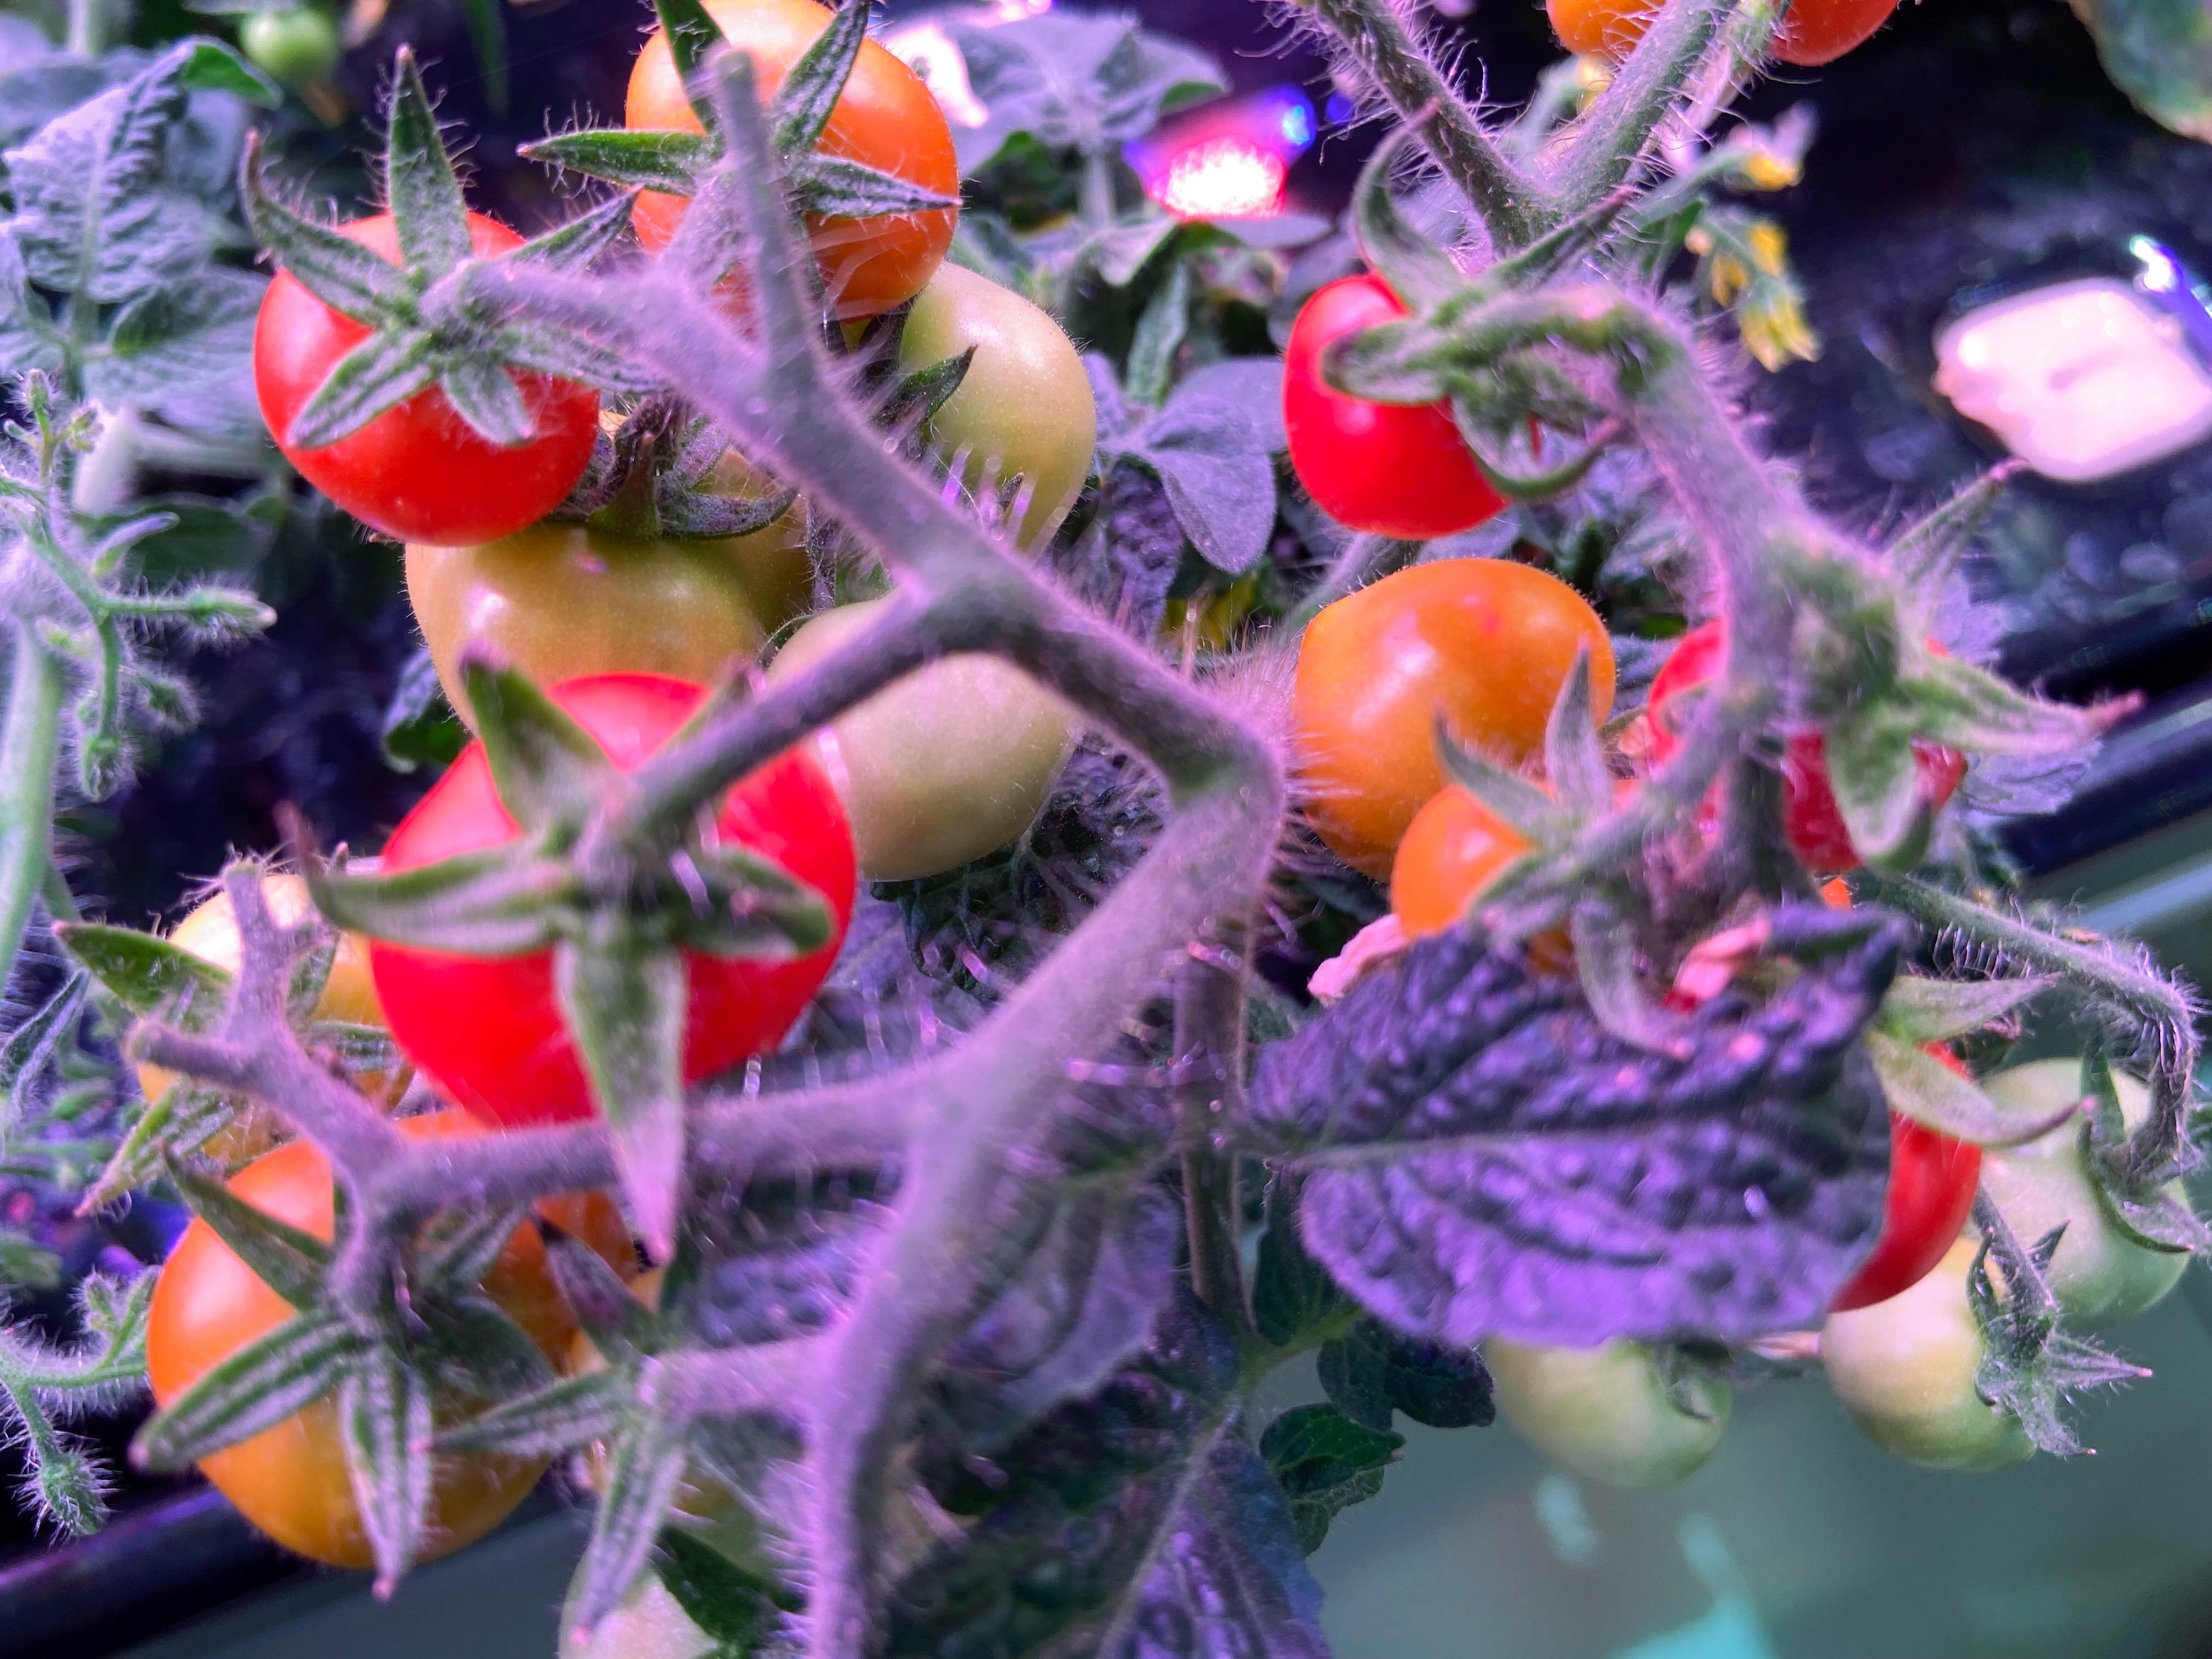green: (392, 458, 803, 735), (744, 586, 1080, 884), (853, 260, 1101, 587), (1986, 1068, 2205, 1324), (550, 1462, 833, 1659), (1820, 1234, 2041, 1450), (1486, 1304, 1730, 1481), (239, 5, 343, 84)
red: (366, 662, 860, 1131), (150, 1121, 594, 1581), (251, 197, 617, 545), (1275, 549, 1629, 887), (618, 0, 963, 328), (1277, 254, 1580, 544), (127, 864, 394, 1164), (1660, 612, 1987, 847), (1778, 1026, 1984, 1293), (1383, 782, 1568, 957), (1543, 0, 1750, 68), (1705, 0, 1928, 63)
